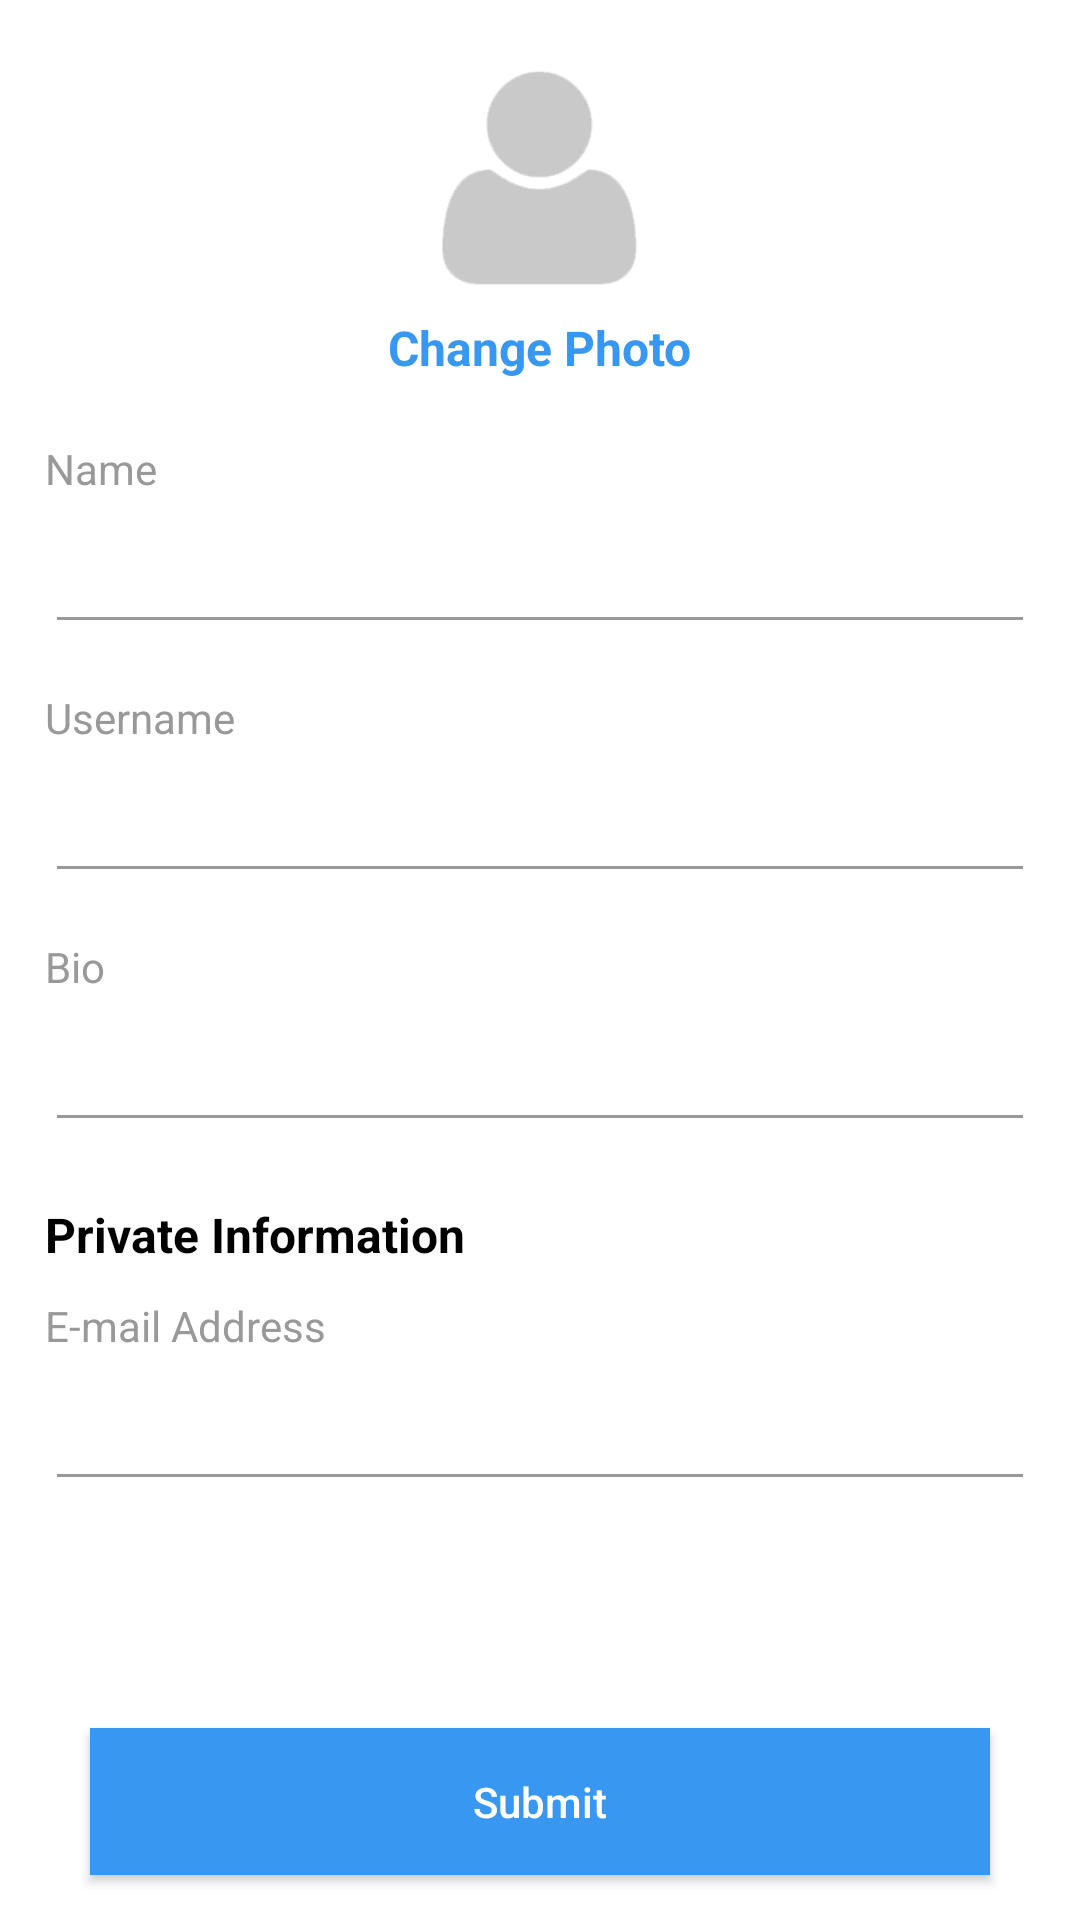

Where icons sit on this 1080px x 1920px app screen, as (x1, y1, x2, y2):
profile: (443, 72, 636, 284)
